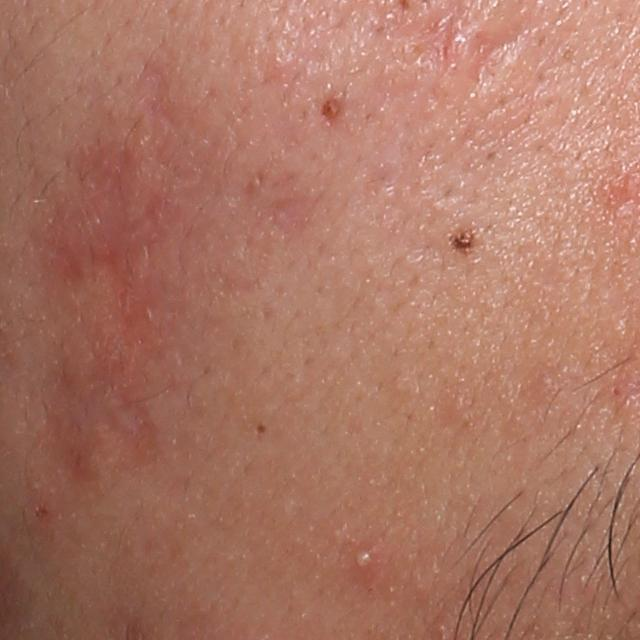atrophic_scar: (34, 68, 280, 511), (455, 9, 554, 93)
comedo: (433, 617, 452, 637), (252, 420, 268, 437)
nevus: (447, 226, 484, 258), (319, 92, 340, 119)
pustule: (353, 546, 376, 569)
